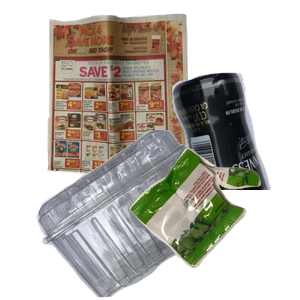glass: (106, 70, 300, 250)
paper: (44, 11, 229, 181)
plastic: (34, 130, 246, 300)
trash: (127, 146, 300, 300)
